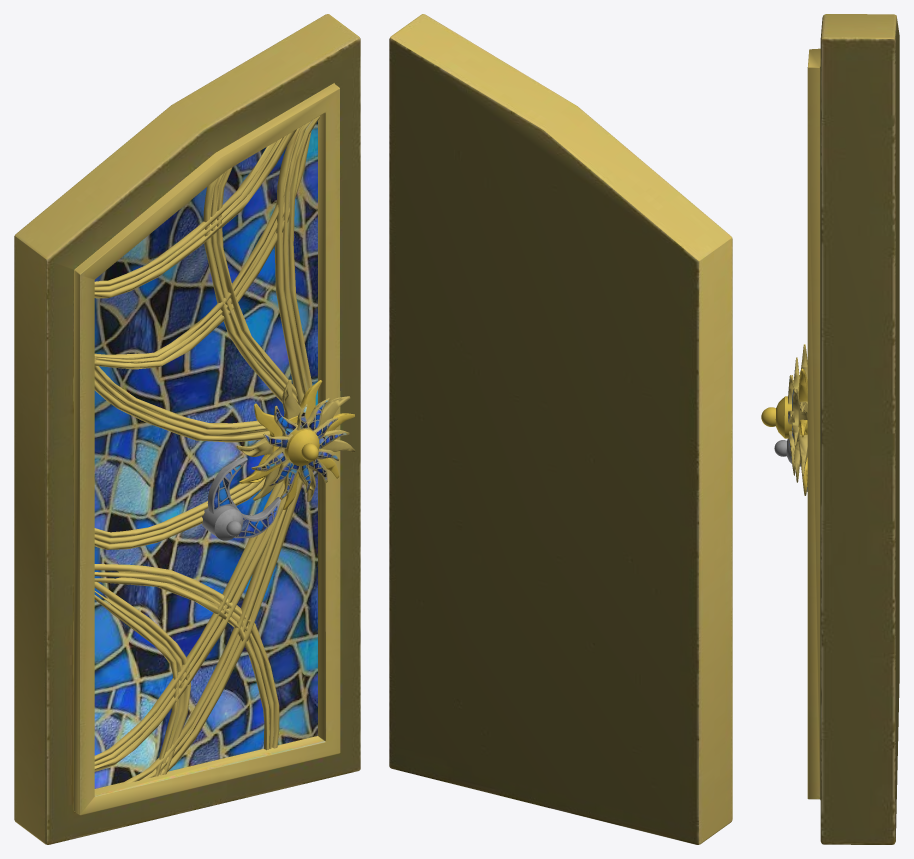
File: doorLeft_lowPolyCompressed.glb
The picture shows the model from 3 angles, left to right: view 1: azimuth 30°, elevation 25°; view 2: azimuth 150°, elevation 25°; view 3: azimuth 270°, elevation 25°; orthographic projection. The views are drawn at different scales.
Visible parts, largest first — view 1: polySurface15.001; view 2: polySurface15.001; view 3: polySurface15.001.
Boxes of the visible parts, x1,y1,x2,y2 form: polySurface15.001: (14,14,360,844); polySurface15.001: (389,14,732,844); polySurface15.001: (761,14,899,844).
Bounding box in the file's own units: 0.1101 × 0.2457 × 0.0382.
Materials: 4 (4 with a texture image).
